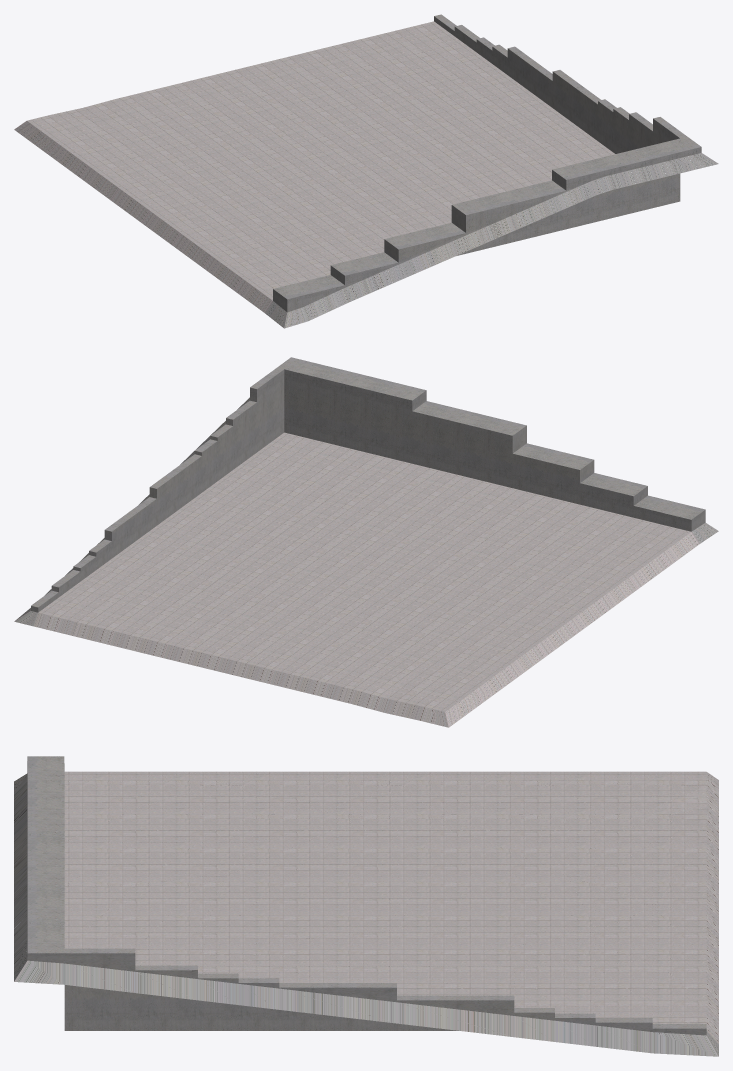
Rendered from monlith_ground.obj.
The picture shows the model from 3 angles, top to bottom: view 1: azimuth 30°, elevation 25°; view 2: azimuth 150°, elevation 25°; view 3: azimuth 270°, elevation 25°; orthographic projection. The views are drawn at different scales.
Parts seen in each view (by area): view 1: monlith_ground; view 2: monlith_ground; view 3: monlith_ground.
Boxes of the visible parts, box(x1,y1,x2,y2) form: monlith_ground: box(14, 14, 718, 328); monlith_ground: box(14, 357, 718, 727); monlith_ground: box(14, 756, 718, 1056).
Size of the model in its own units: 81.57 by 13.38 by 87.81.
2 materials, 2 textured.
